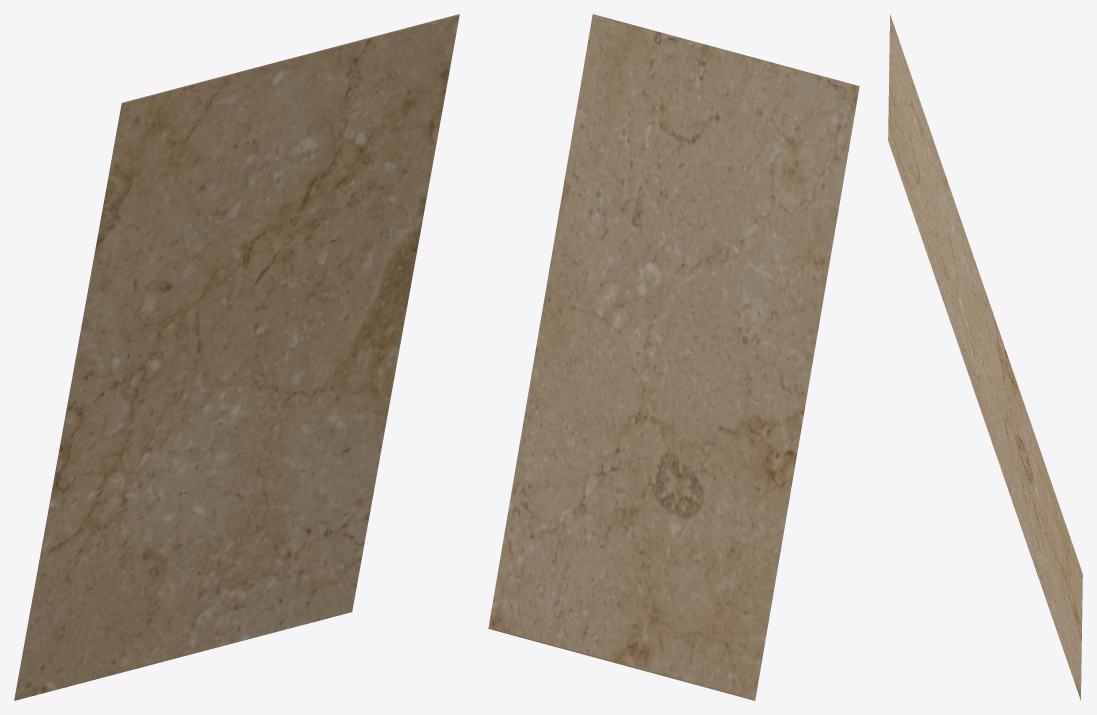
Rendered from cream.glb.
3 views of the same model, side by side, from view 1: azimuth 30°, elevation 25°; view 2: azimuth 150°, elevation 25°; view 3: azimuth 270°, elevation 25° (orthographic). The views are drawn at different scales.
Parts seen in each view (by area): view 1: Cube.002; view 2: Cube.002; view 3: Cube.002.
Boxes of the visible parts, x1,y1,x2,y2 form: Cube.002: (14, 14, 459, 700); Cube.002: (488, 14, 859, 700); Cube.002: (888, 14, 1082, 700).
Bounding box in the file's own units: 1.2 × 2.29 × 0.7192.
1 material, 1 textured.
